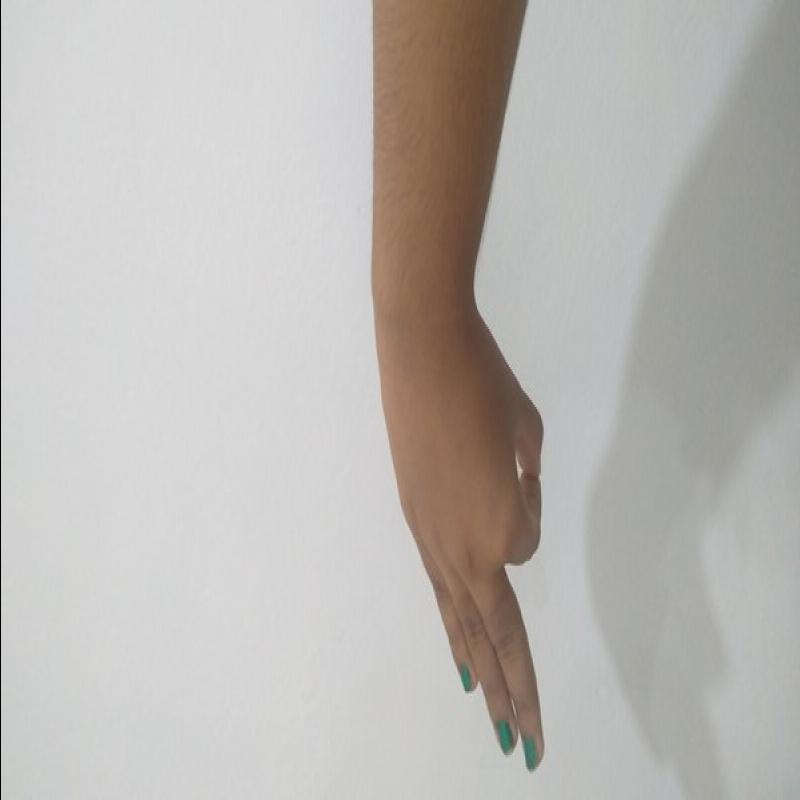Mudraakhyam: (366, 325, 559, 784)
